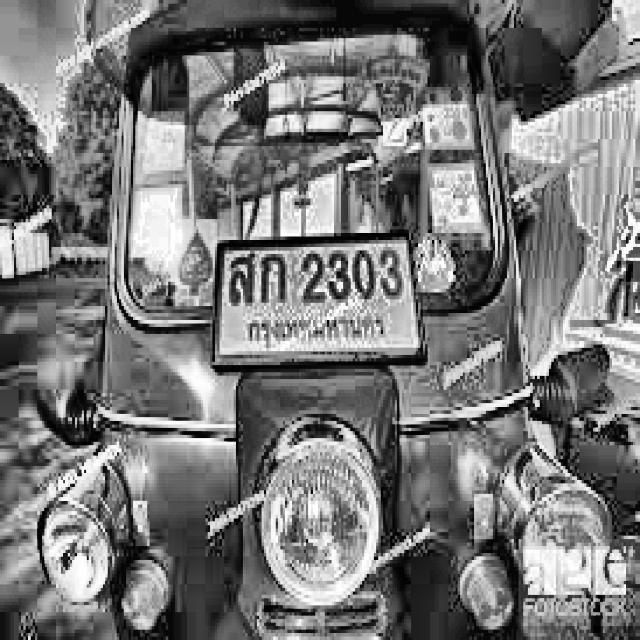license-plate: (206, 220, 437, 379)
